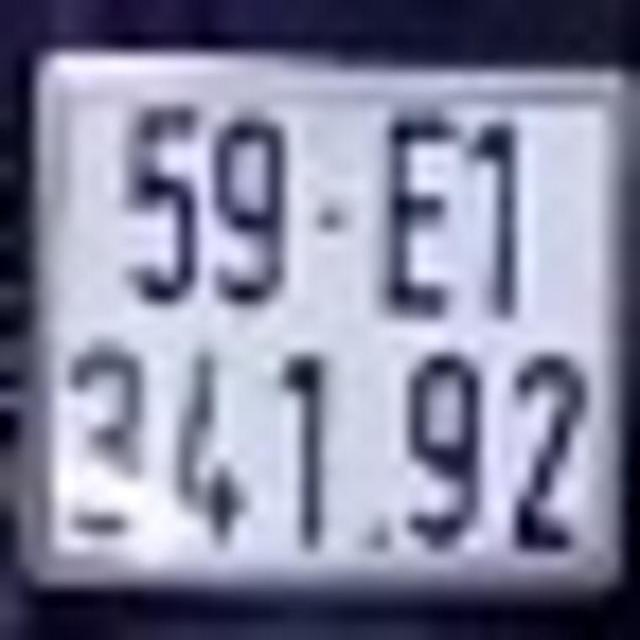1: (277, 339, 333, 559), (468, 118, 520, 324)
2: (506, 354, 596, 557)
3: (66, 338, 146, 537)
4: (170, 340, 250, 544)
5: (124, 100, 198, 306)
9: (401, 346, 482, 551), (213, 116, 291, 303)
E: (388, 114, 463, 320)
